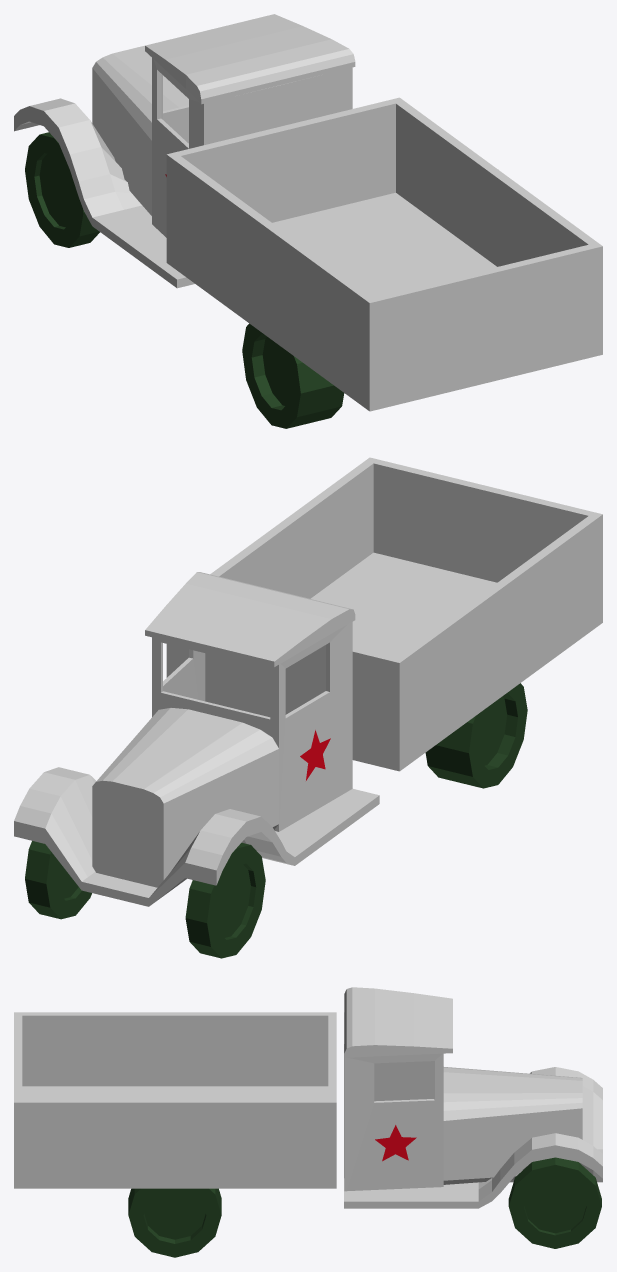
Rendered from SovietTruck.fbx.
The picture shows the model from 3 angles, top to bottom: view 1: azimuth 30°, elevation 25°; view 2: azimuth 150°, elevation 25°; view 3: azimuth 270°, elevation 25°; orthographic projection. The views are drawn at different scales.
Visible parts, largest first — view 1: SovietTruck; view 2: SovietTruck; view 3: SovietTruck.
Boxes of the visible parts, x1=… form: SovietTruck: x1=14, y1=14, x2=602, y2=428; SovietTruck: x1=14, y1=457, x2=602, y2=958; SovietTruck: x1=14, y1=987, x2=602, y2=1257.
Size of the model in its own units: 142 by 145 by 392.
